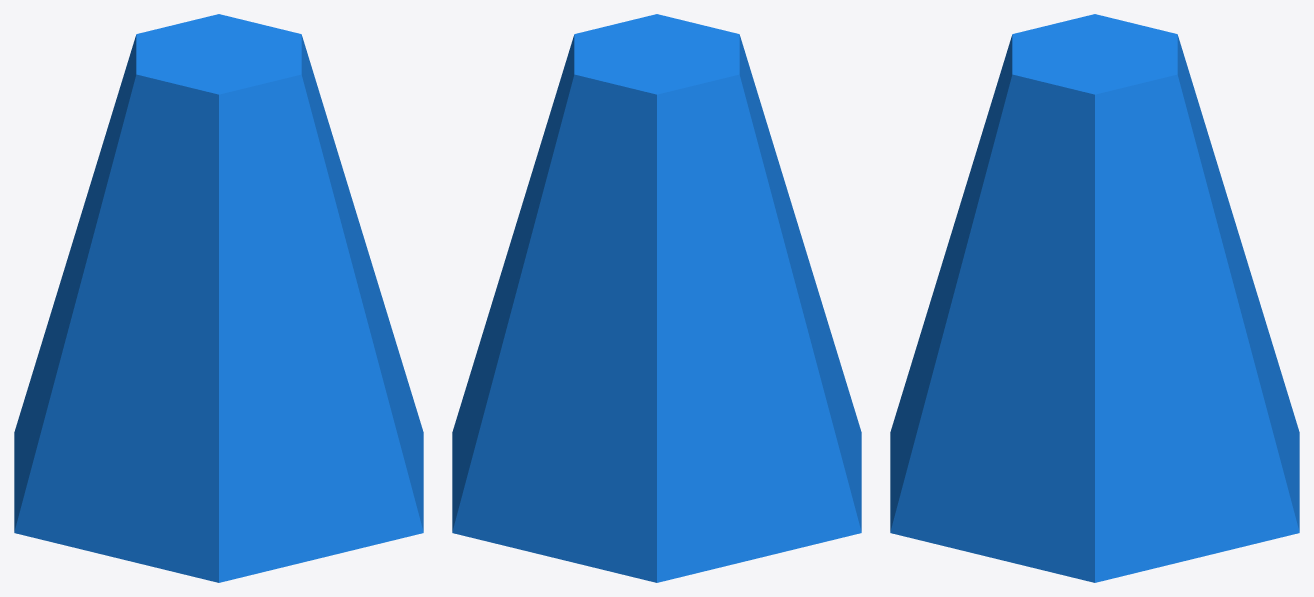
File: Proto_Block_Top_Point_Hexagon_Cropped_01.fbx
3 renders of one model, left to right at view 1: azimuth 30°, elevation 25°; view 2: azimuth 150°, elevation 25°; view 3: azimuth 270°, elevation 25°, orthographic.
Parts seen in each view (by area): view 1: Proto_Block_Top_Point_Hexagon_Cropped_01; view 2: Proto_Block_Top_Point_Hexagon_Cropped_01; view 3: Proto_Block_Top_Point_Hexagon_Cropped_01.
Boxes of the visible parts, <box> form: Proto_Block_Top_Point_Hexagon_Cropped_01: <box>14,14,423,582</box>; Proto_Block_Top_Point_Hexagon_Cropped_01: <box>452,14,861,582</box>; Proto_Block_Top_Point_Hexagon_Cropped_01: <box>890,14,1299,582</box>.
Size of the model in its own units: 1 by 1 by 0.866.
